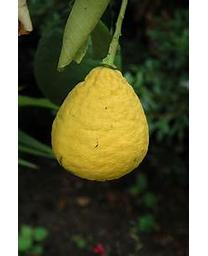lemon: (52, 65, 150, 181)
